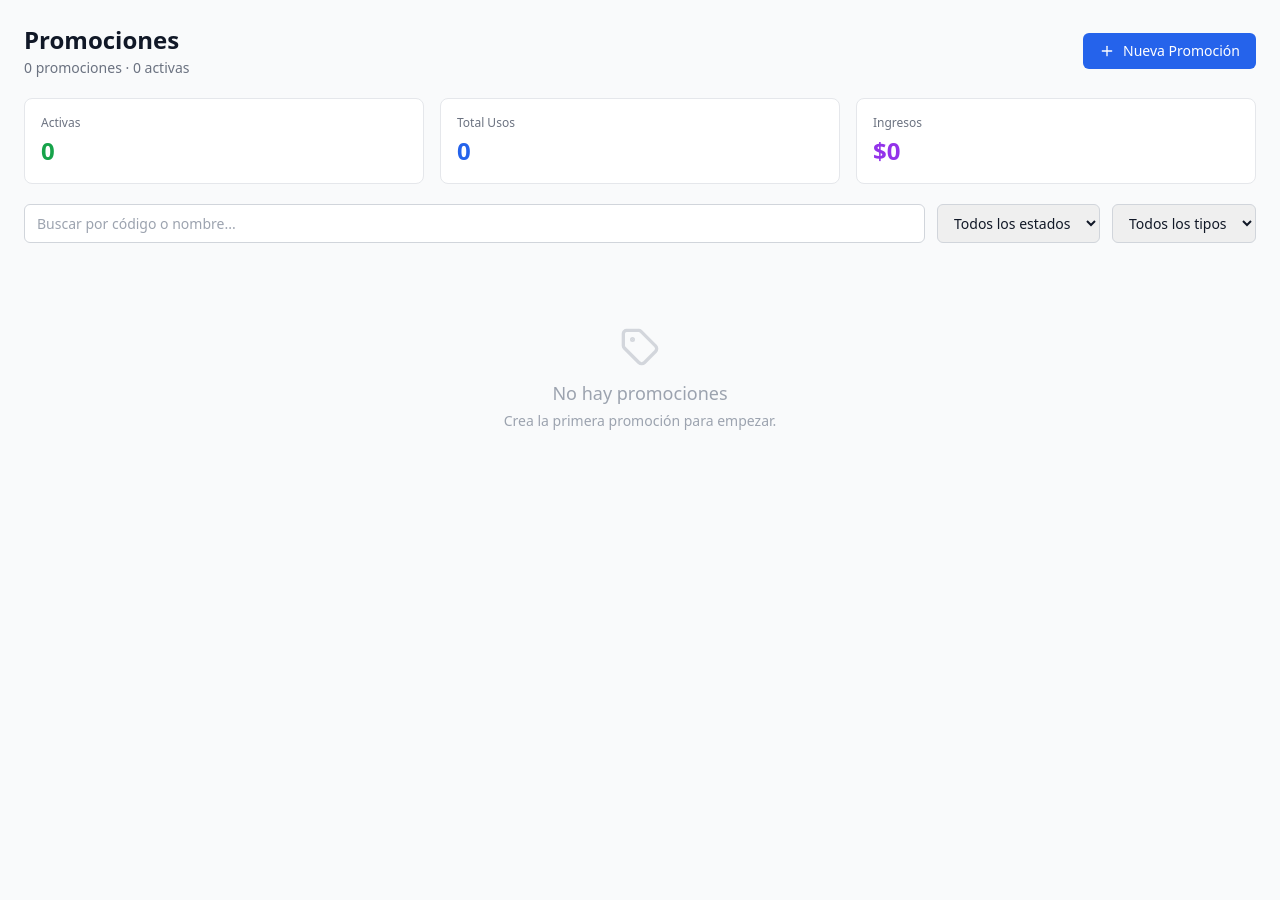
PromotionsPage › errores 400 por campo del backend se muestran en el form
Click the button "Nueva Promoción".
click(1170, 51)  # box [1083,33,1256,69]
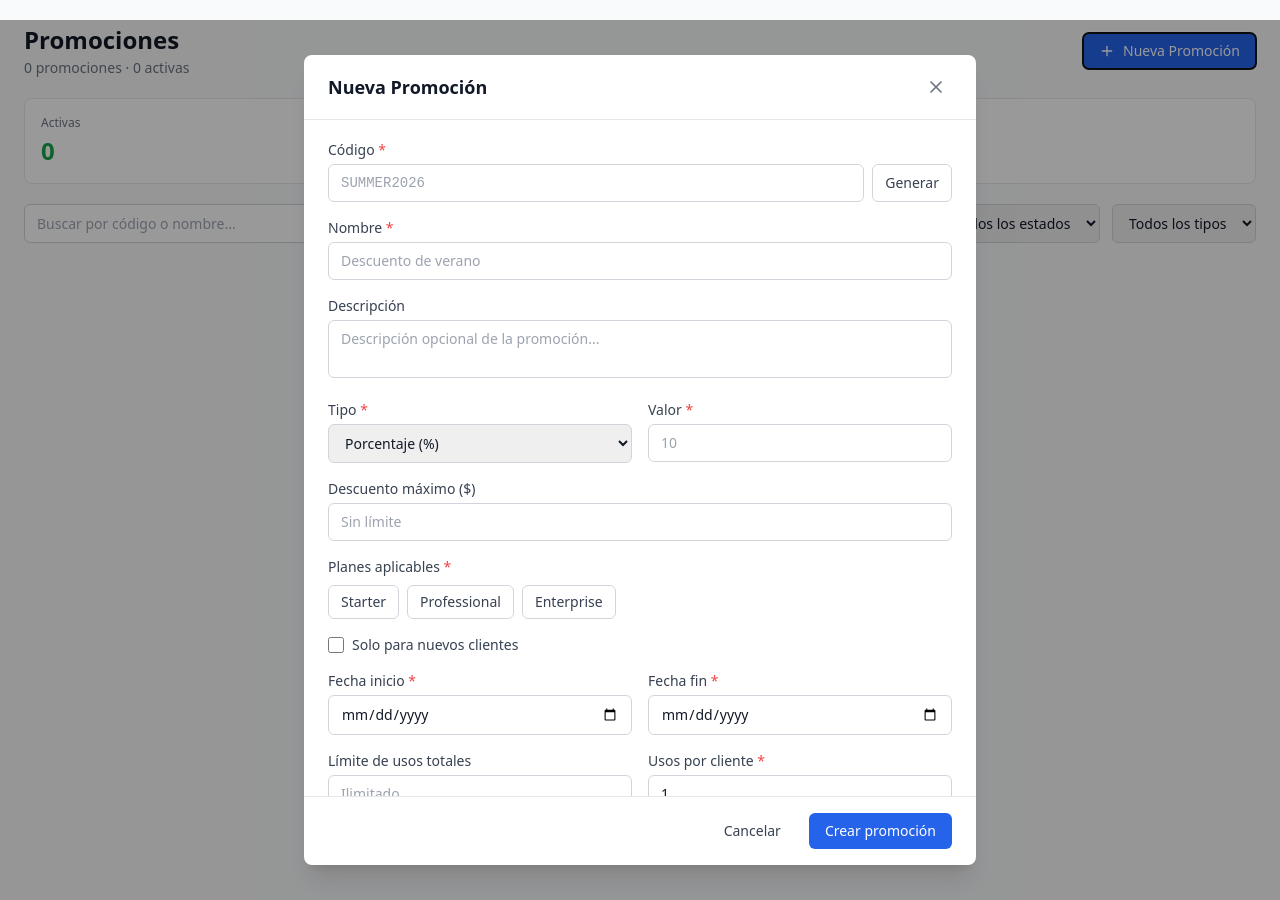
Type "NUEVO25" into the field with placeholder "SUMMER2026".
click(596, 183); type("NUEVO25")  # box [328,164,864,202]
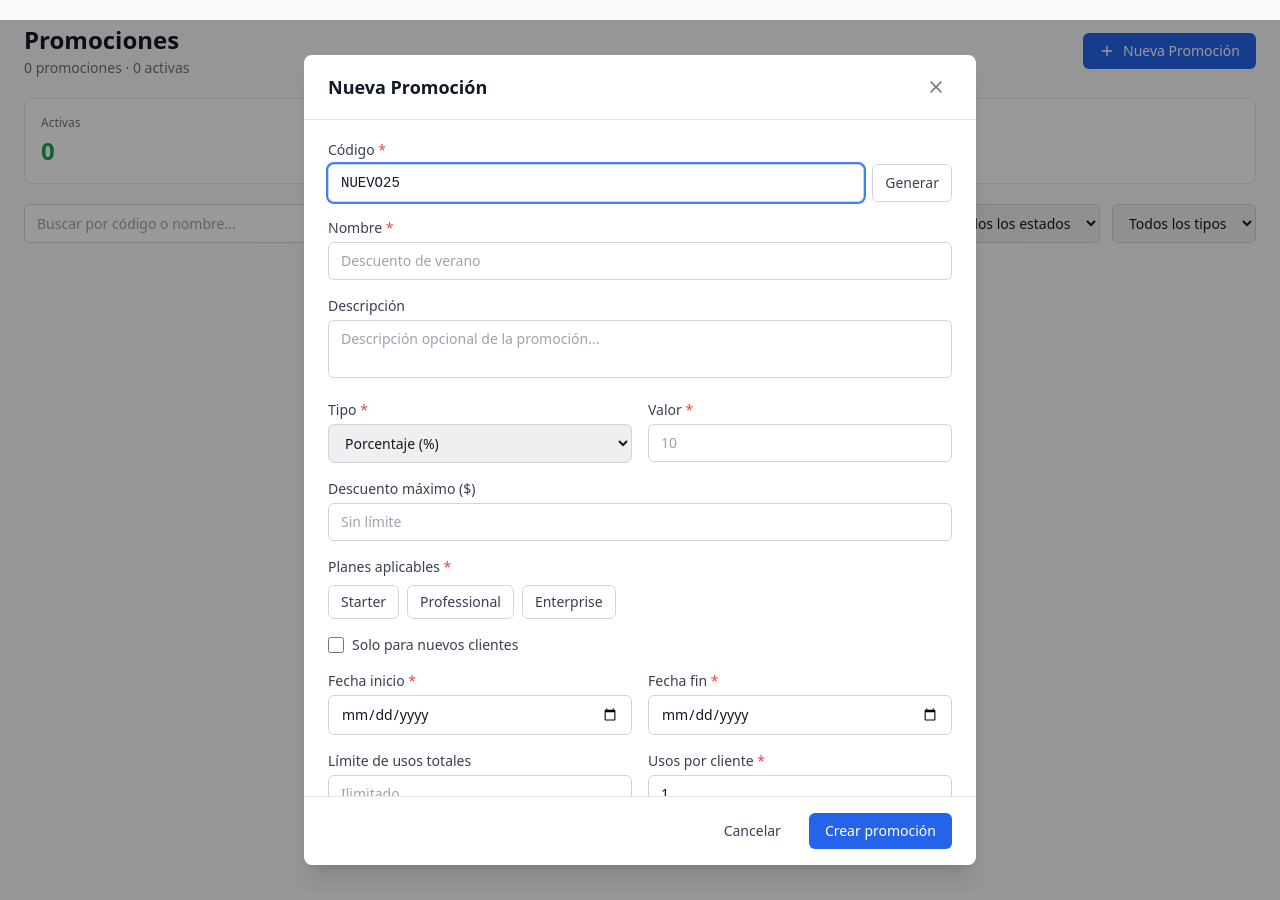
Type "Promo nueva" into the field with placeholder "Descuento de verano".
click(640, 261); type("Promo nueva")  # box [328,242,952,280]
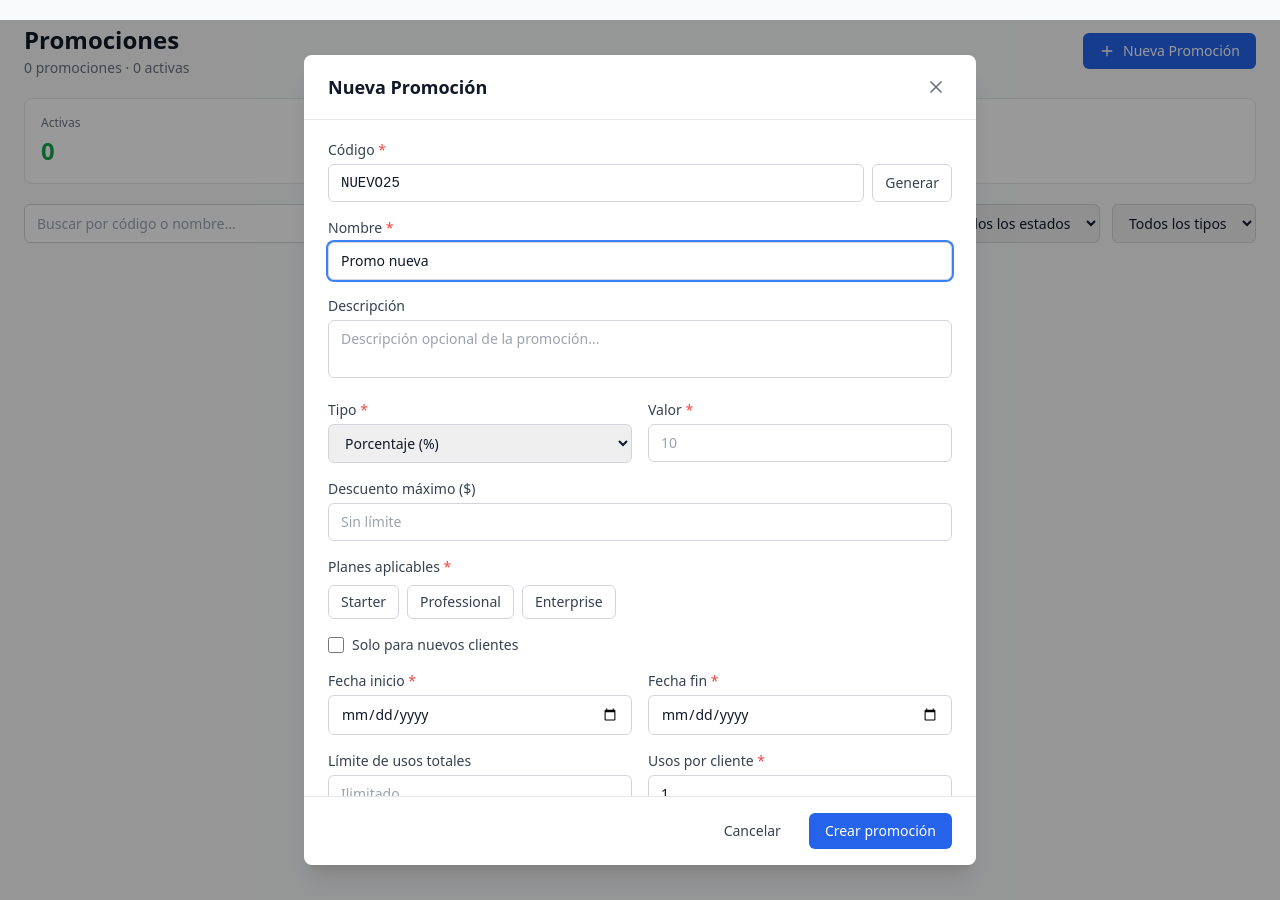
Type "25" into the number field with placeholder "10".
click(800, 443); type("25")  # box [648,424,952,462]
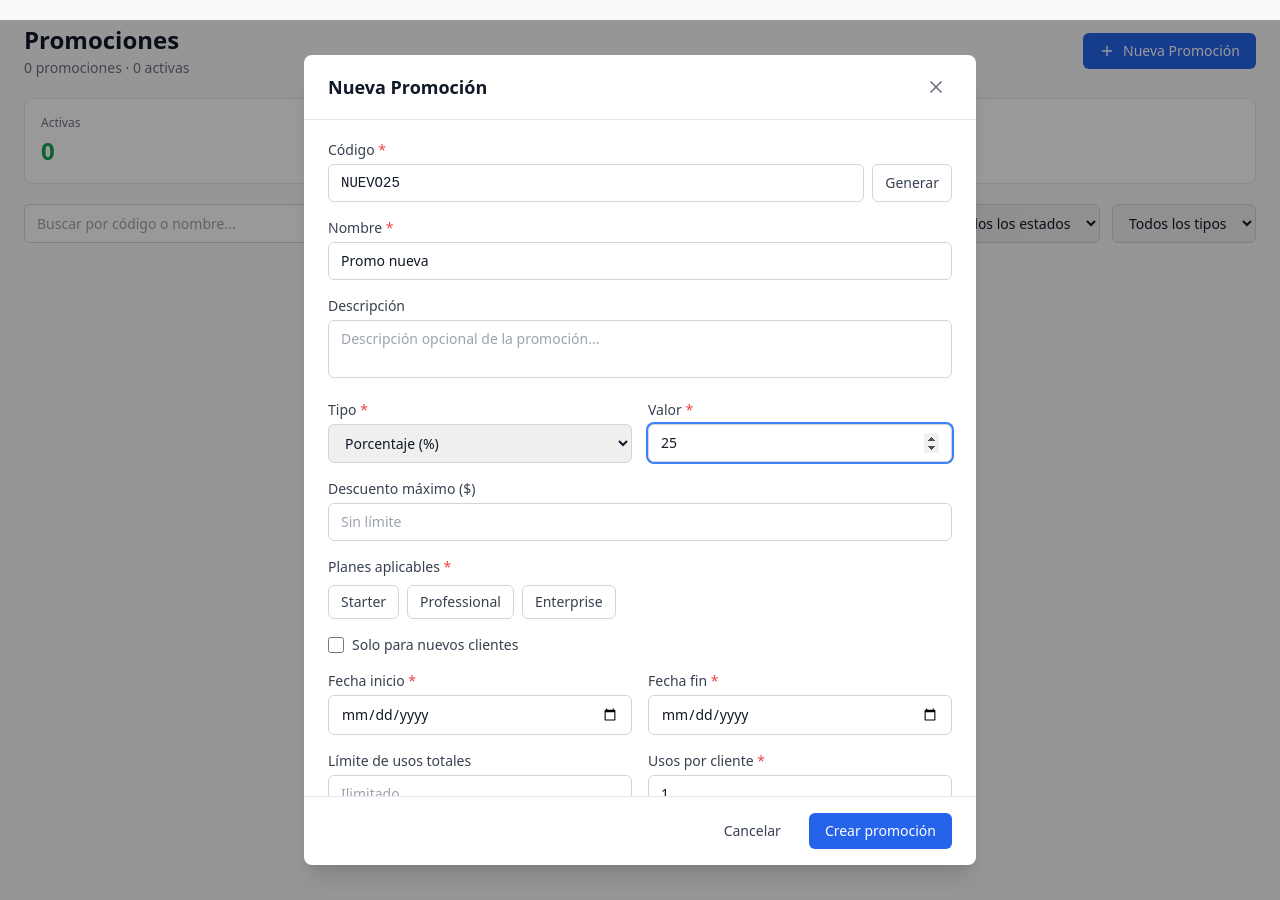
Click the button "Starter".
click(364, 602)  # box [328,585,399,619]
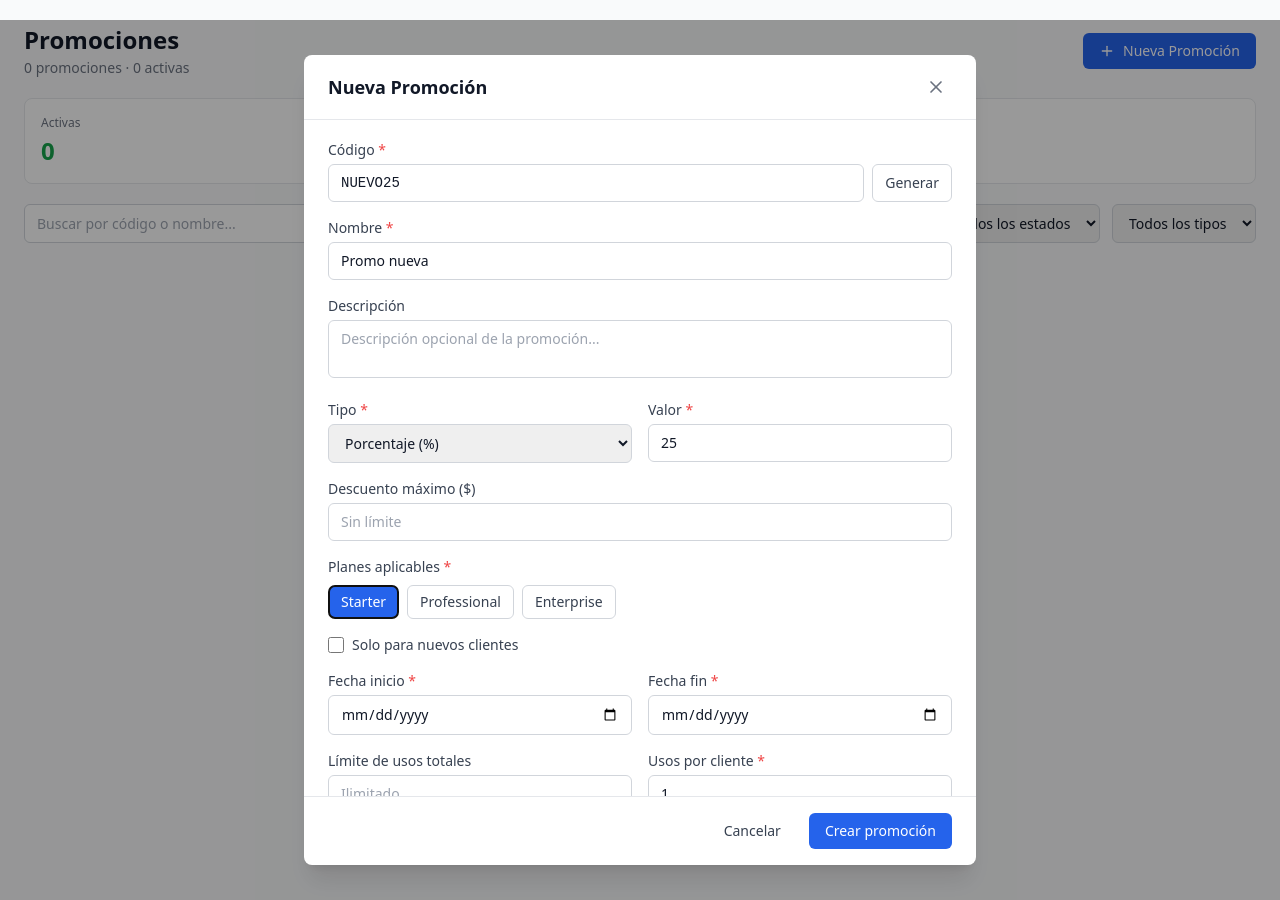
Type "2026-08-01" into the date field below "Fecha inicio".
click(480, 715); type("2026-08-01")  # box [328,695,632,735]
Type "2026-09-30" into the date field below "Fecha fin".
click(800, 715); type("2026-09-30")  # box [648,695,952,735]
Click the button "Crear promoción".
click(880, 831)  # box [809,813,952,849]
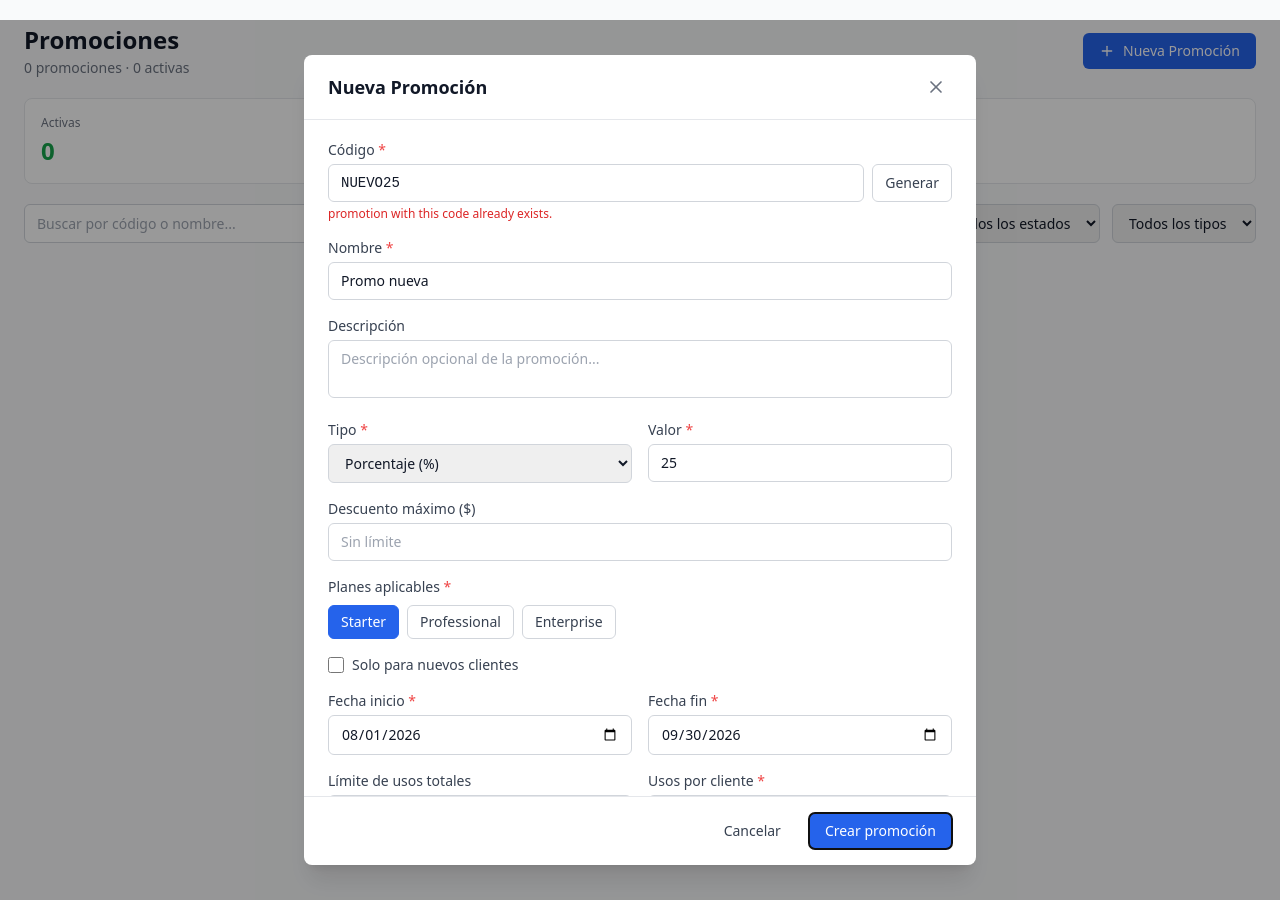
Expected: the text "promotion with this code already exists." is shown, [328,205,552,222]
